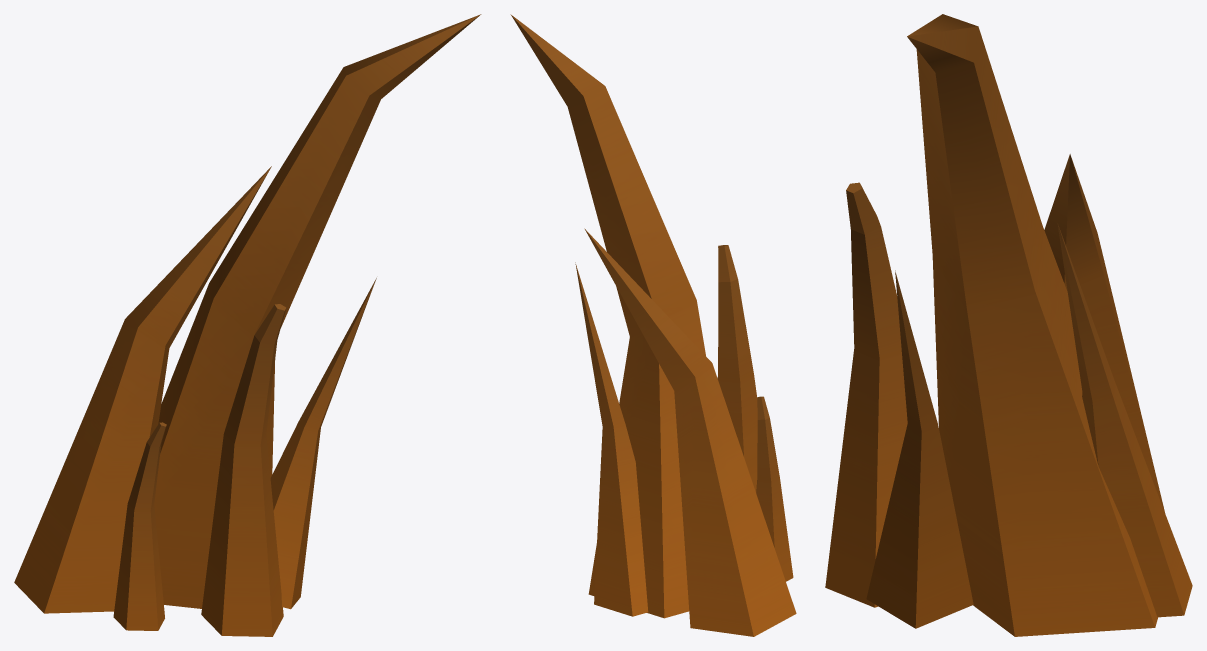
File: hierba13.fbx
3 renders of one model, left to right at view 1: azimuth 30°, elevation 25°; view 2: azimuth 150°, elevation 25°; view 3: azimuth 270°, elevation 25°, orthographic. The views are drawn at different scales.
Visible parts, largest first — view 1: hierba13; view 2: hierba13; view 3: hierba13.
Boxes of the visible parts, <box> form: hierba13: <box>14,14,481,636</box>; hierba13: <box>510,14,796,636</box>; hierba13: <box>825,14,1192,636</box>.
Bounding box in the file's own units: 188 × 259 × 121.
